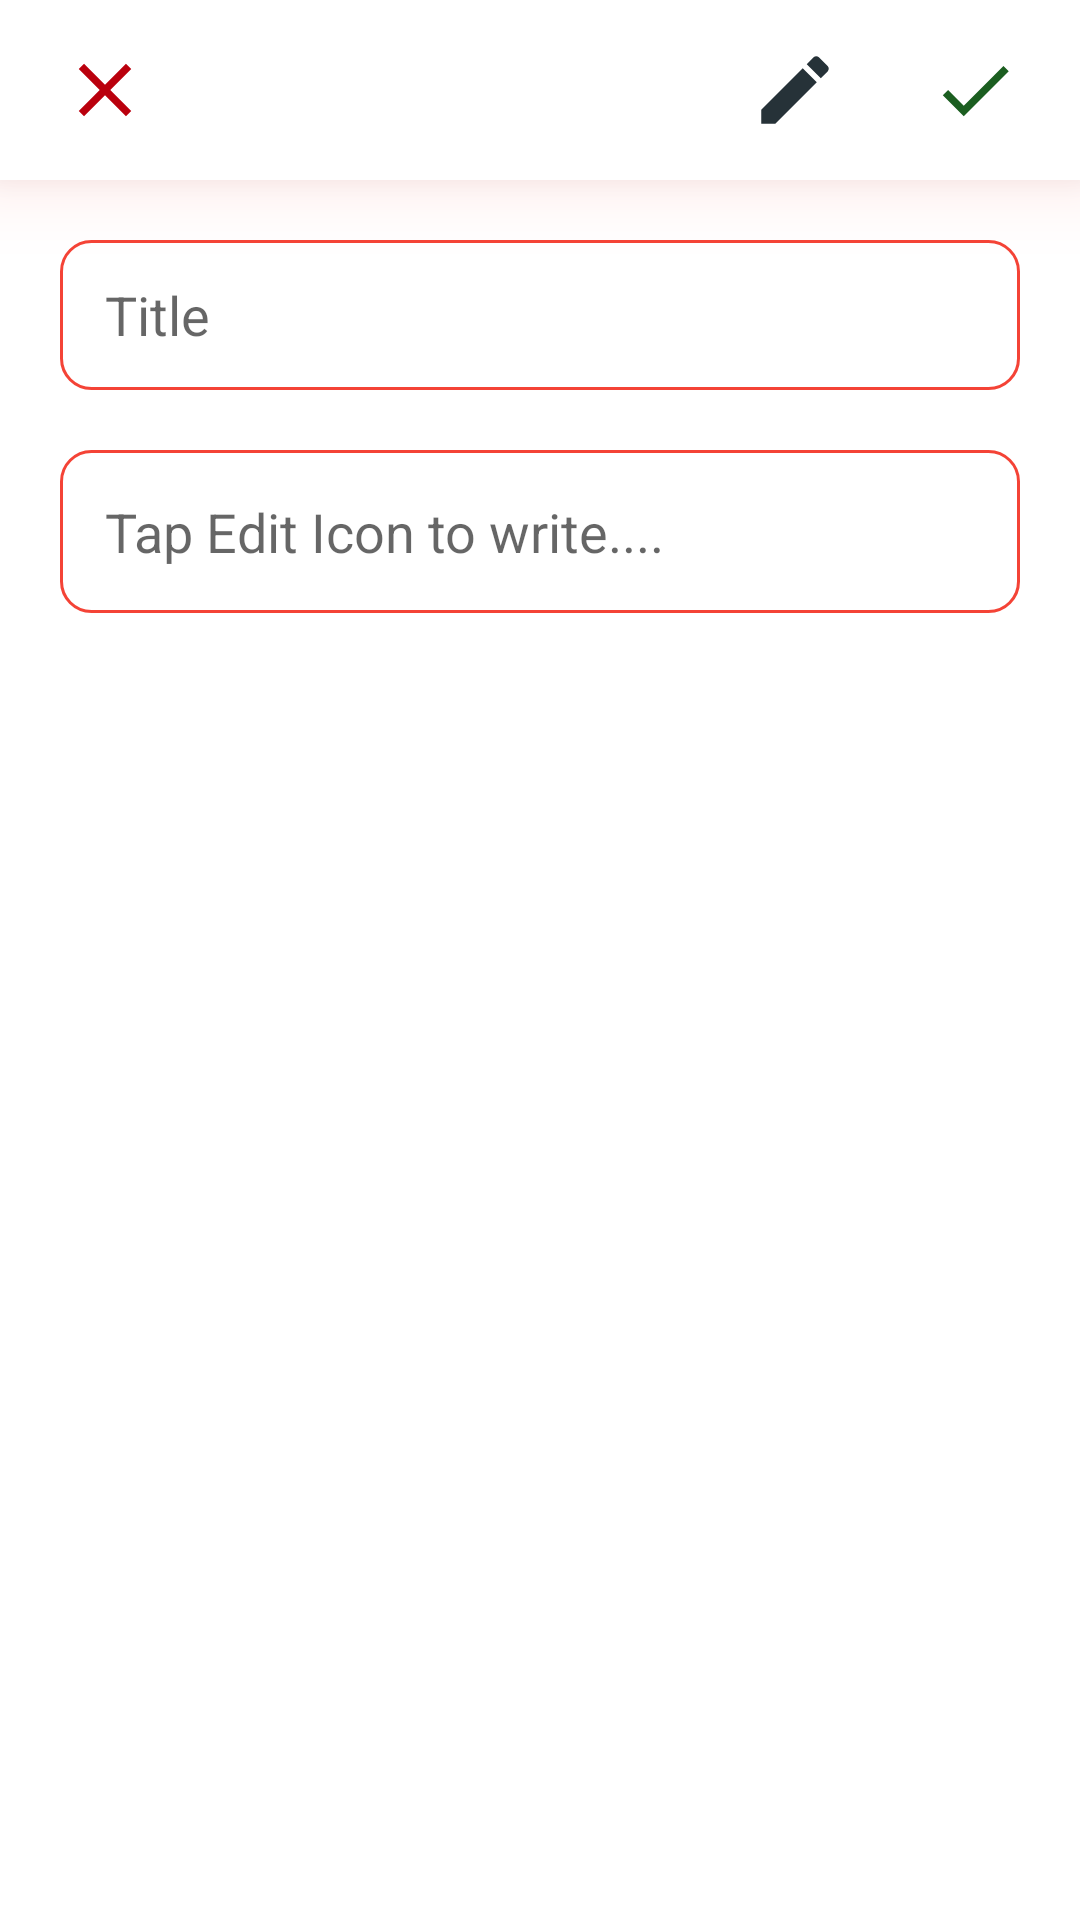

Named icons in this screenshot (1080px×1920px) and their centers, (x=x, y=y):
check: (x=976, y=91)
clear: (x=105, y=90)
edit: (x=795, y=90)
